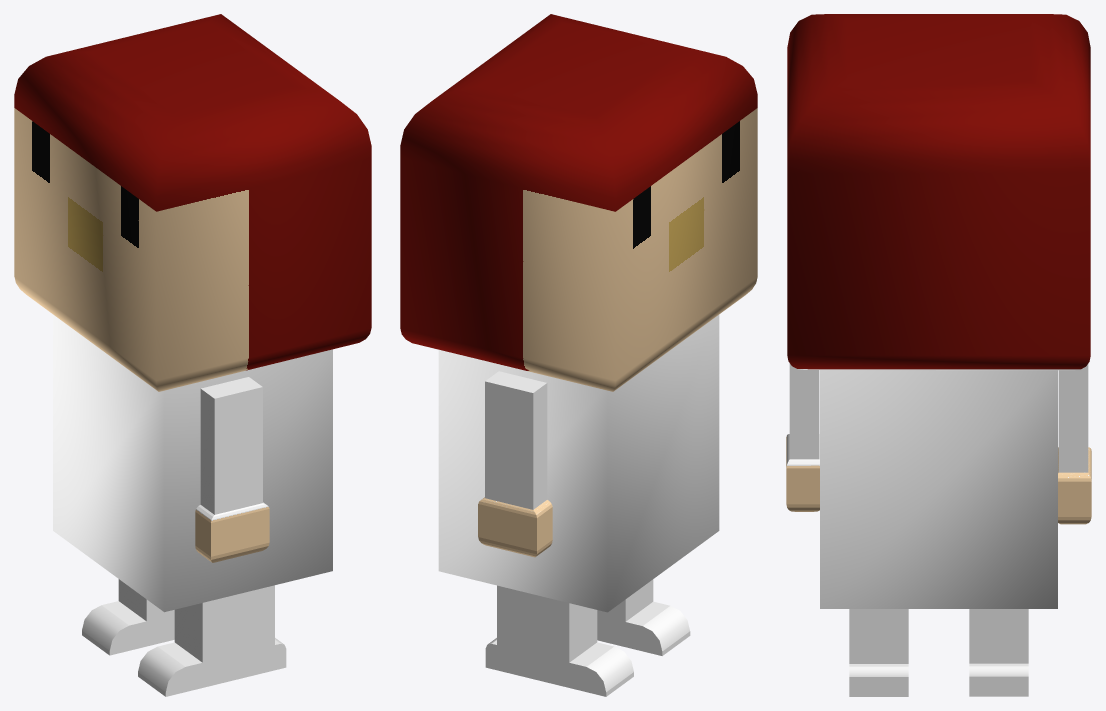
Rendered from Player_0.fbx.
The picture shows the model from 3 angles, left to right: view 1: azimuth 30°, elevation 25°; view 2: azimuth 150°, elevation 25°; view 3: azimuth 270°, elevation 25°; orthographic projection. The views are drawn at different scales.
Parts seen in each view (by area): view 1: Main, LeftHand, LeftFoot, RightFoot; view 2: Main, RightHand, RightFoot, LeftFoot; view 3: Main, LeftFoot, RightFoot, RightHand, LeftHand.
Part boxes in pixels (x1,y1,x2,y2): Main: (14,14,371,612); LeftHand: (195,377,269,562); LeftFoot: (138,585,286,696); RightFoot: (82,579,174,655); Main: (400,14,757,612); RightHand: (478,371,552,557); RightFoot: (485,585,633,696); LeftFoot: (597,579,690,655); Main: (787,14,1090,608); LeftFoot: (849,609,908,696); RightFoot: (969,609,1028,696); RightHand: (1058,364,1091,524); LeftHand: (786,363,819,511).
Bounding box in the file's own units: 8.92 × 10.25 × 22.98.
